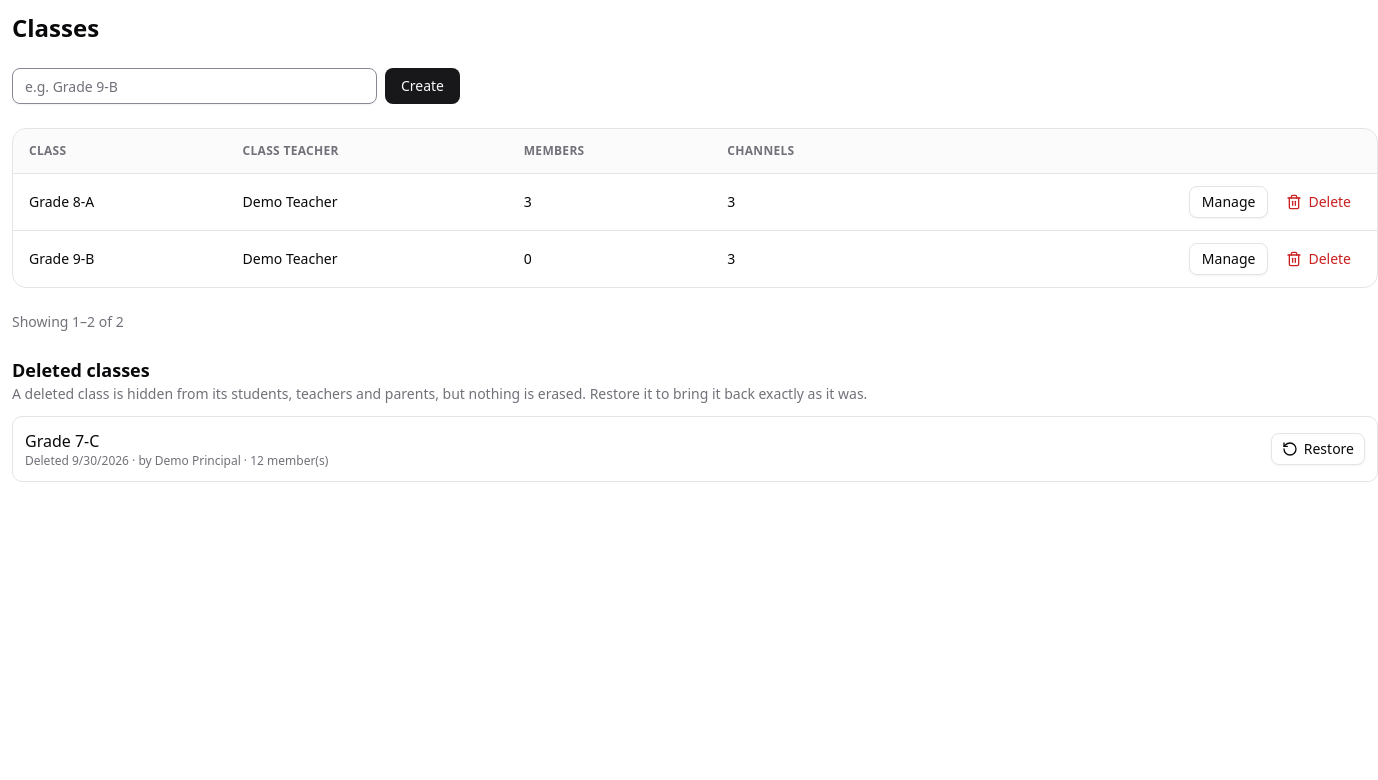
Test case: restoring a class › brings it back from the Deleted classes list
Click the button with aria-label "Restore Grade 7-C" at (1318, 448), box [1271,432,1365,464]
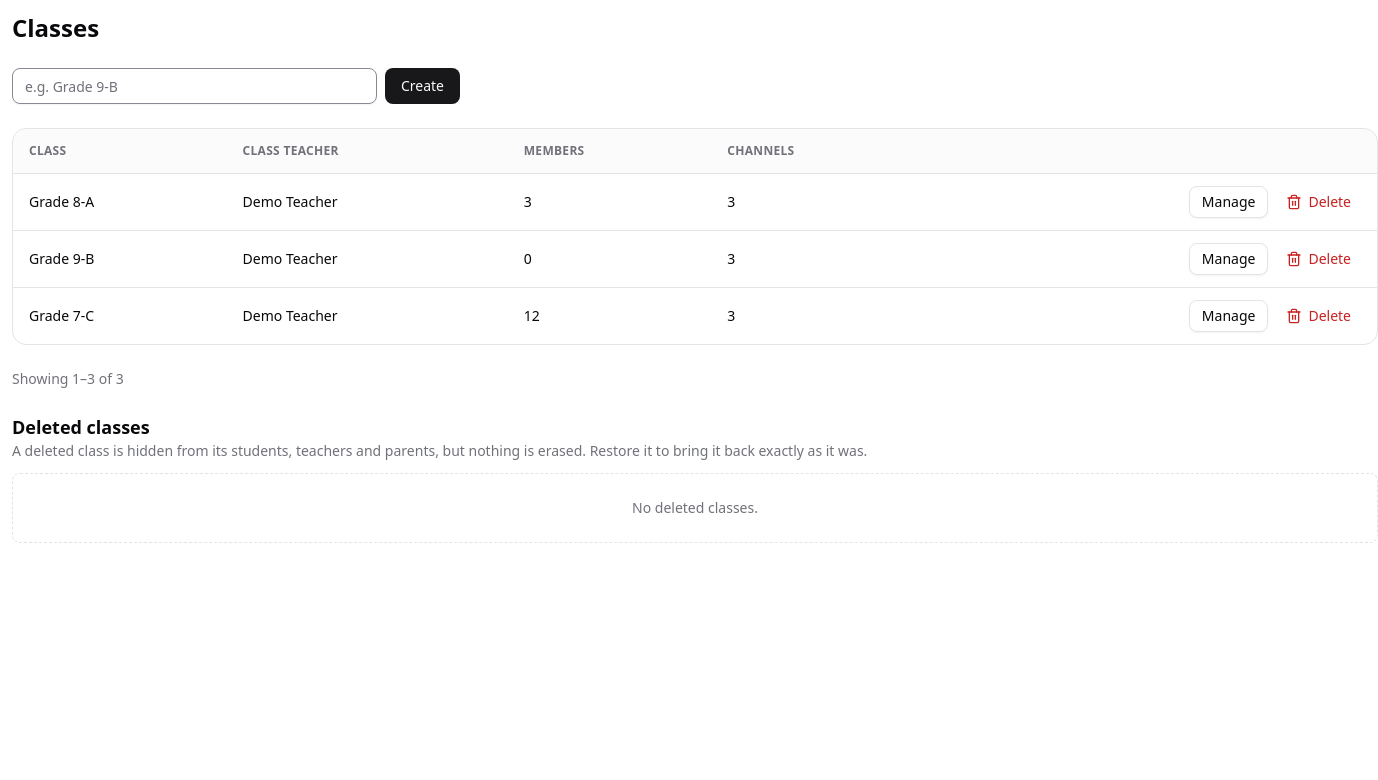
Check: the button with aria-label "Delete Grade 7-C" is shown, box [1276,300,1361,332]
Check: the text "No deleted classes." is shown, box [12,472,1377,542]
